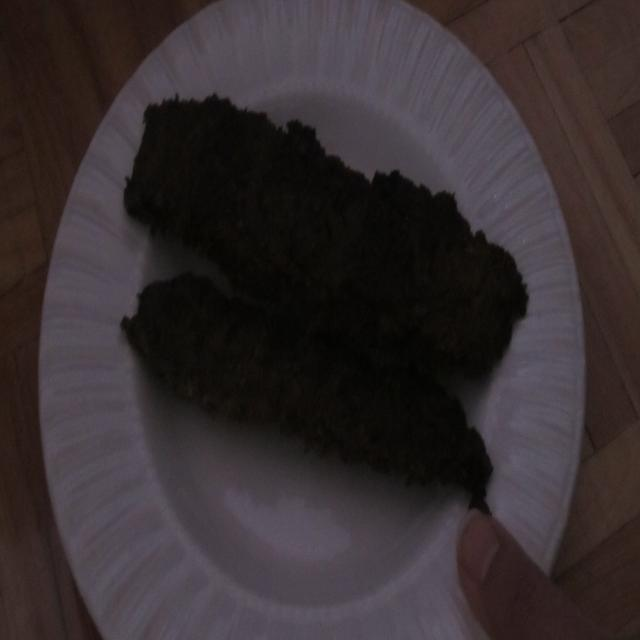cutlet: (69, 94, 546, 487)
